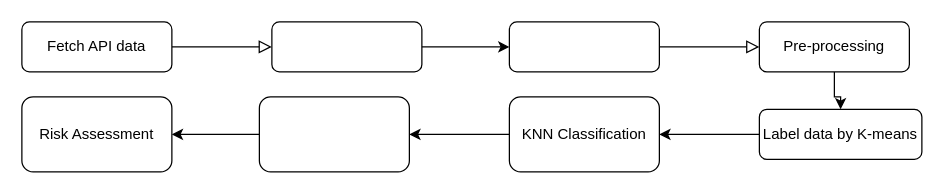
This 944x194 diagram has some shape labels left out. Each missing label, with the centre of its shape:
"Define dataset" belongs at pixel 346 46.
"EDA" belongs at pixel 583 46.
"Model Evaluation" belongs at pixel 333 134.
